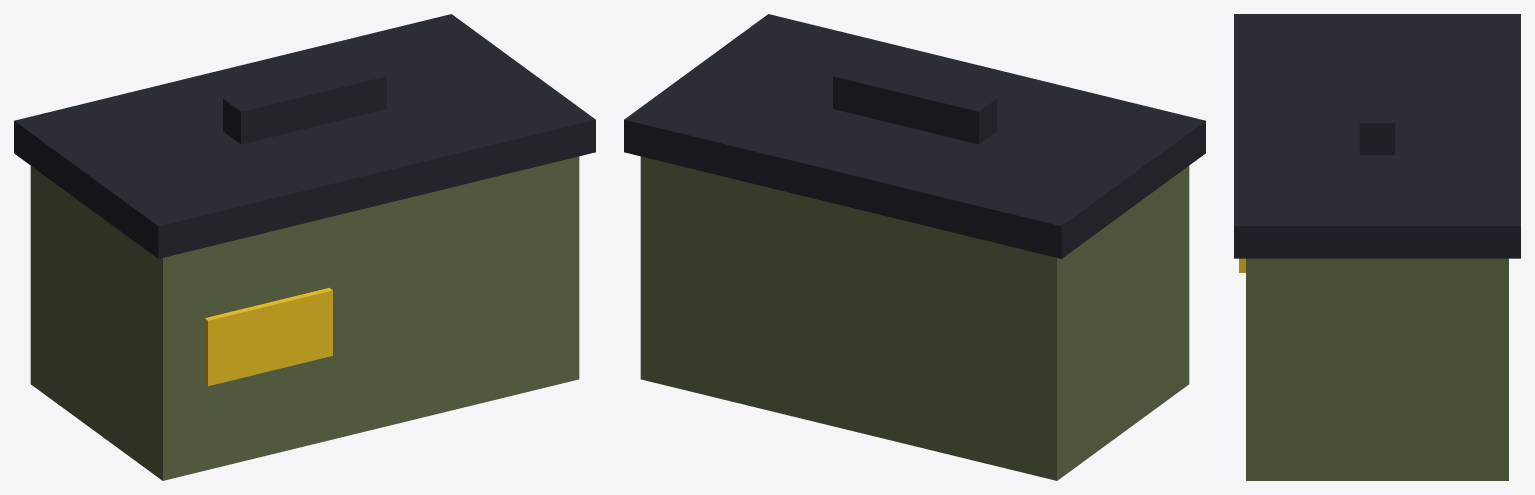
The model's file is ammo_box.glb.
3 renders of one model, left to right at view 1: azimuth 30°, elevation 25°; view 2: azimuth 150°, elevation 25°; view 3: azimuth 270°, elevation 25°, orthographic.
Parts seen in each view (by area): view 1: ammo_box; view 2: ammo_box; view 3: ammo_box.
Boxes of the visible parts, <box> form: ammo_box: <box>14,14,595,480</box>; ammo_box: <box>624,14,1205,480</box>; ammo_box: <box>1234,14,1520,480</box>.
Size of the model in its own units: 0.42 by 0.27 by 0.24.
